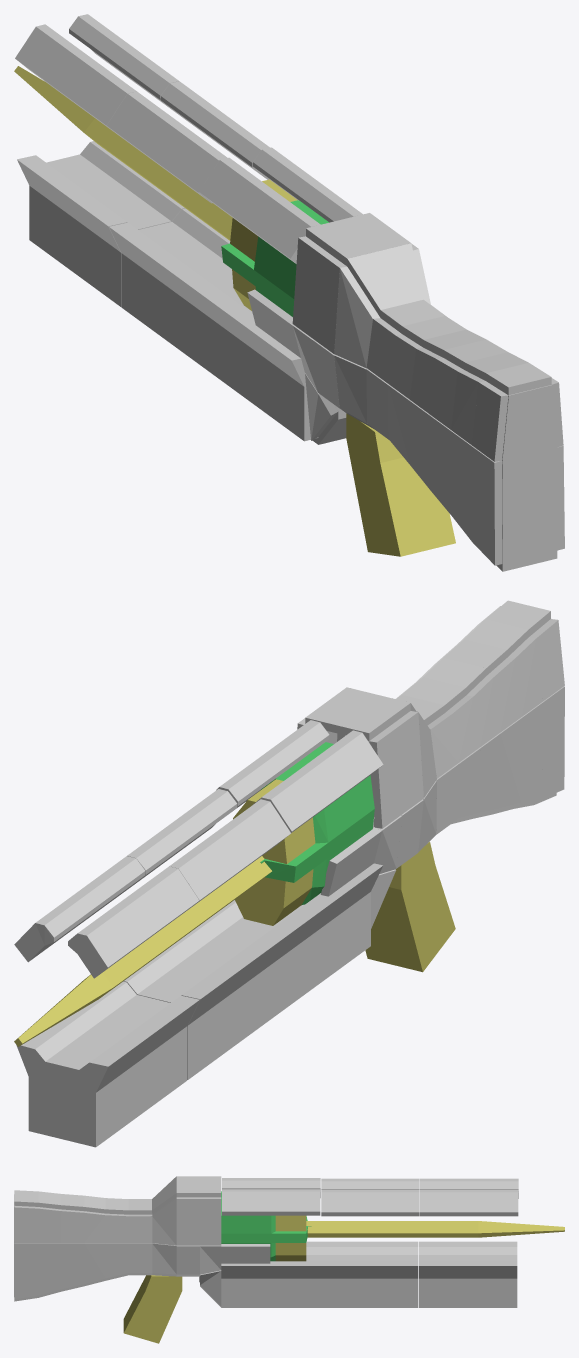
3 renders of one model, top to bottom at view 1: azimuth 30°, elevation 25°; view 2: azimuth 150°, elevation 25°; view 3: azimuth 270°, elevation 25°, orthographic. The views are drawn at different scales.
Visible parts, largest first — view 1: A_001, Cube_020, Cube_023, B_001, Cube_018, Cube_019, Cube_024, Cube_015, Cube_028, A_011, A_012; view 2: A_001, Cube_020, Cube_023, Cube_019, Cube_024, Cube_015, Cube_018, B_001, Cube_028, A_011, A_012; view 3: A_001, Cube_020, Cube_023, Cube_024, Cube_028, Cube_018, Cube_019, Cube_015, B_001, A_011, A_012.
Boxes of the visible parts, <box> form: A_001: <box>247,213,564,571</box>; Cube_020: <box>17,141,185,306</box>; Cube_023: <box>109,208,237,373</box>; B_001: <box>346,413,455,556</box>; Cube_018: <box>106,81,276,203</box>; Cube_019: <box>15,14,186,134</box>; Cube_024: <box>200,289,318,441</box>; Cube_015: <box>199,147,362,263</box>; Cube_028: <box>14,66,232,240</box>; A_011: <box>221,200,328,316</box>; A_012: <box>230,179,297,310</box>; A_001: <box>297,600,564,928</box>; Cube_020: <box>16,981,199,1147</box>; Cube_023: <box>123,914,291,1079</box>; Cube_019: <box>14,856,199,978</box>; Cube_024: <box>216,863,383,1012</box>; Cube_015: <box>216,720,383,832</box>; Cube_018: <box>120,789,290,909</box>; B_001: <box>365,842,455,972</box>; Cube_028: <box>14,856,271,1046</box>; A_011: <box>260,742,374,904</box>; A_012: <box>233,779,315,925</box>; A_001: <box>14,1176,270,1307</box>; Cube_020: <box>418,1241,517,1307</box>; Cube_023: <box>319,1241,417,1307</box>; Cube_024: <box>221,1241,319,1307</box>; Cube_028: <box>306,1221,564,1237</box>; Cube_018: <box>321,1178,419,1216</box>; Cube_019: <box>420,1178,518,1216</box>; Cube_015: <box>222,1178,320,1215</box>; B_001: <box>123,1275,182,1343</box>; A_011: <box>221,1191,311,1261</box>; A_012: <box>275,1215,306,1261</box>.
Bounding box in the file's own units: 0.0725 × 0.6849 × 0.2084.
